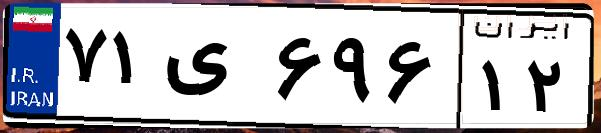1: (475, 38, 525, 113), (110, 28, 158, 98)
2: (525, 38, 570, 115)
6: (270, 28, 330, 110), (385, 28, 445, 110)
7: (57, 26, 110, 100)
9: (330, 28, 385, 110)
ی: (158, 20, 270, 120)
